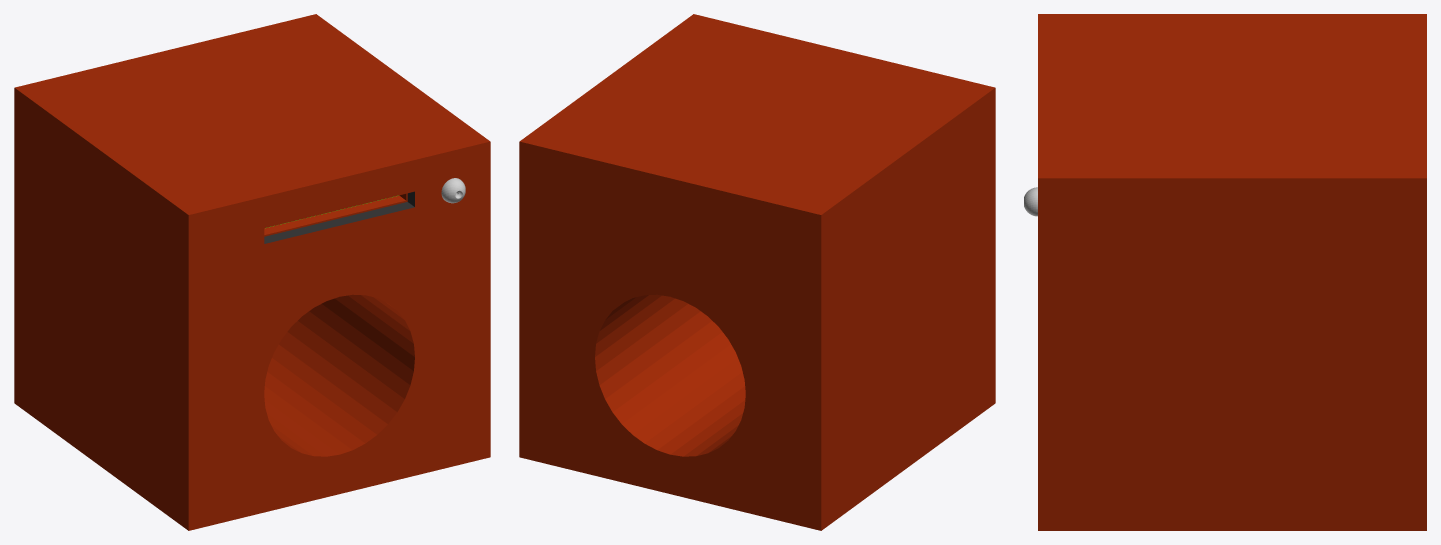
The model's file is 射箭陷阱.fbx.
3 views of the same model, side by side, from view 1: azimuth 30°, elevation 25°; view 2: azimuth 150°, elevation 25°; view 3: azimuth 270°, elevation 25° (orthographic). The views are drawn at different scales.
Visible parts, largest first — view 1: 布尔_1; view 2: 布尔_1; view 3: 布尔_1.
Part boxes in pixels (<box>): 布尔_1: <box>14,14,490,530</box>; 布尔_1: <box>519,14,995,530</box>; 布尔_1: <box>1024,14,1426,530</box>.
Size of the model in its own units: 400 by 400 by 414.
